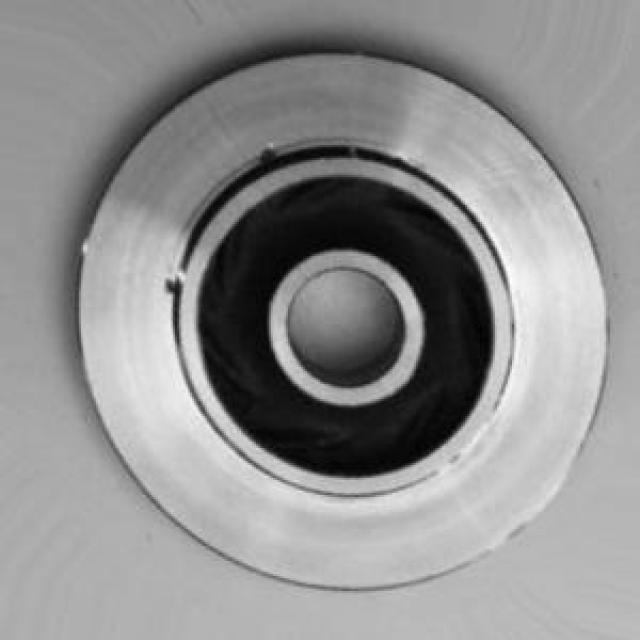Defect: (148, 266, 187, 303), (253, 144, 287, 160)
